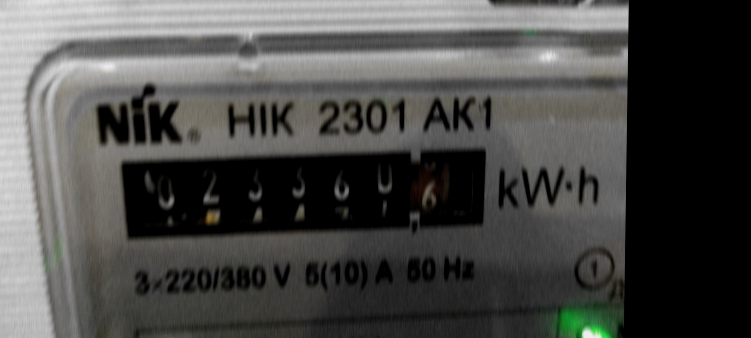0: (154, 169, 179, 211), (374, 157, 397, 194)
2: (198, 163, 224, 204)
3: (245, 162, 266, 202), (287, 161, 309, 199)
6: (329, 161, 355, 203), (421, 177, 442, 213)
screen: (99, 129, 502, 253)
